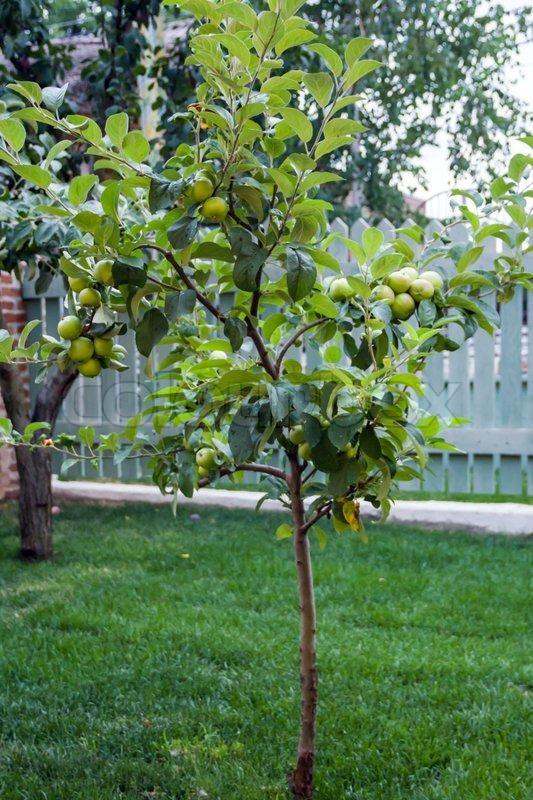apple: (387, 265, 415, 293), (199, 197, 227, 223), (389, 294, 415, 320), (406, 280, 433, 304), (190, 176, 214, 201), (71, 340, 95, 364), (58, 315, 83, 338), (417, 271, 443, 293), (77, 289, 99, 309)
